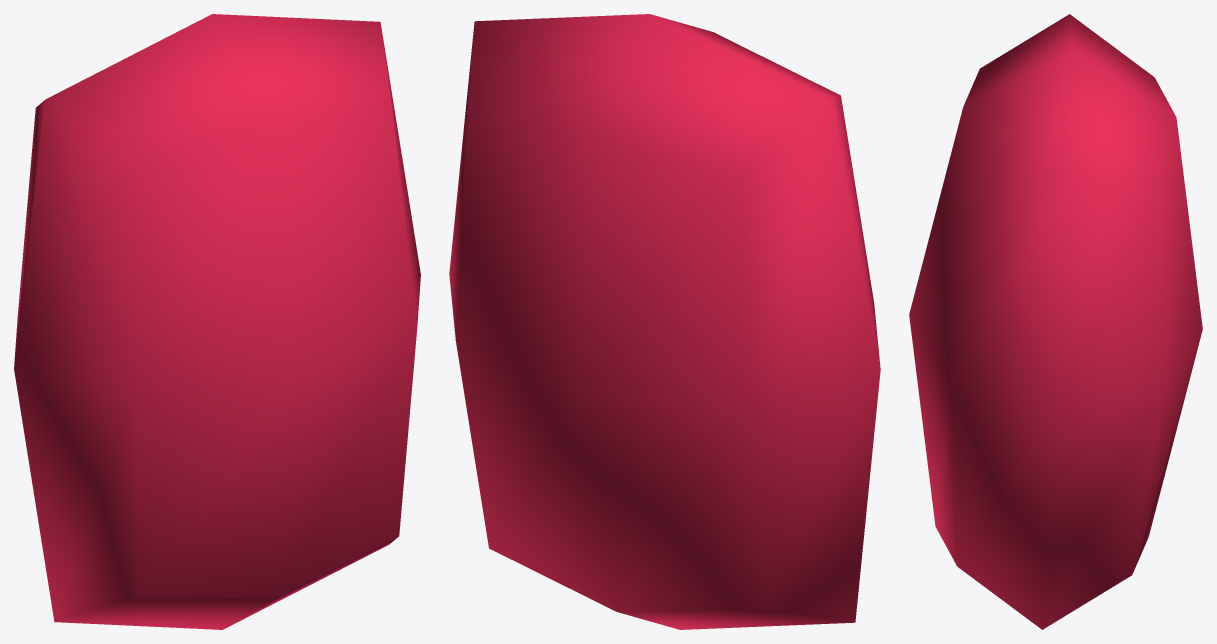
Rendered from Knot.glb.
3 renders of one model, left to right at view 1: azimuth 30°, elevation 25°; view 2: azimuth 150°, elevation 25°; view 3: azimuth 270°, elevation 25°, orthographic. The views are drawn at different scales.
Parts seen in each view (by area): view 1: Noh; view 2: Noh; view 3: Noh.
Boxes of the visible parts, x1=… form: Noh: x1=14, y1=14, x2=420, y2=629; Noh: x1=449, y1=14, x2=880, y2=629; Noh: x1=909, y1=14, x2=1202, y2=629.
Bounding box in the file's own units: 0.0431 × 0.0603 × 0.0294.
